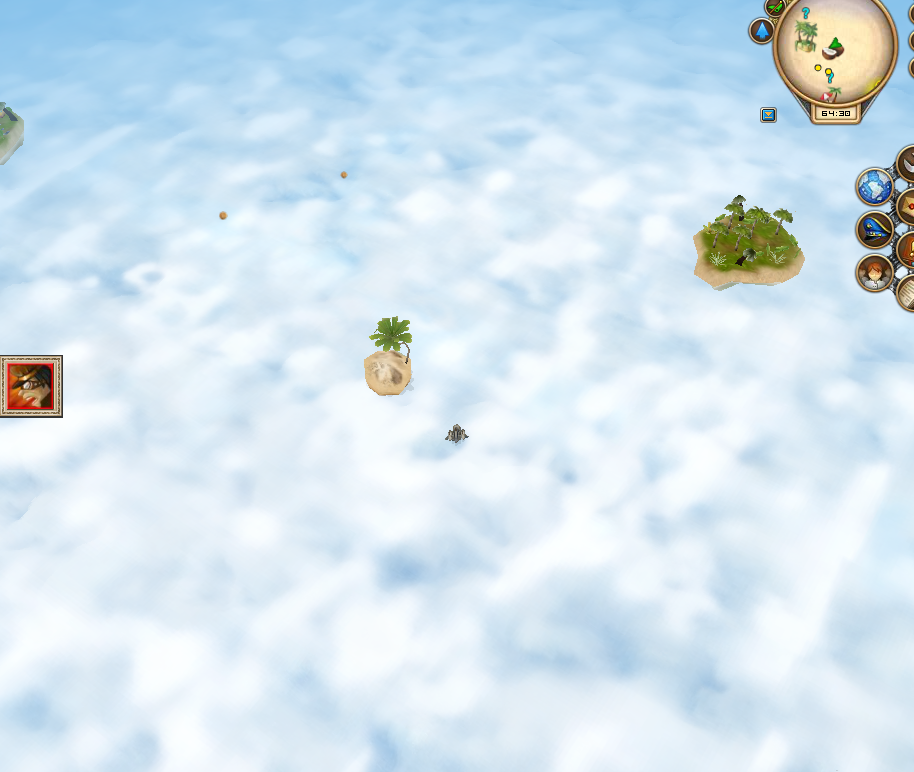coconut: (215, 210, 229, 222), (339, 168, 350, 181)
palm: (359, 317, 416, 401)
